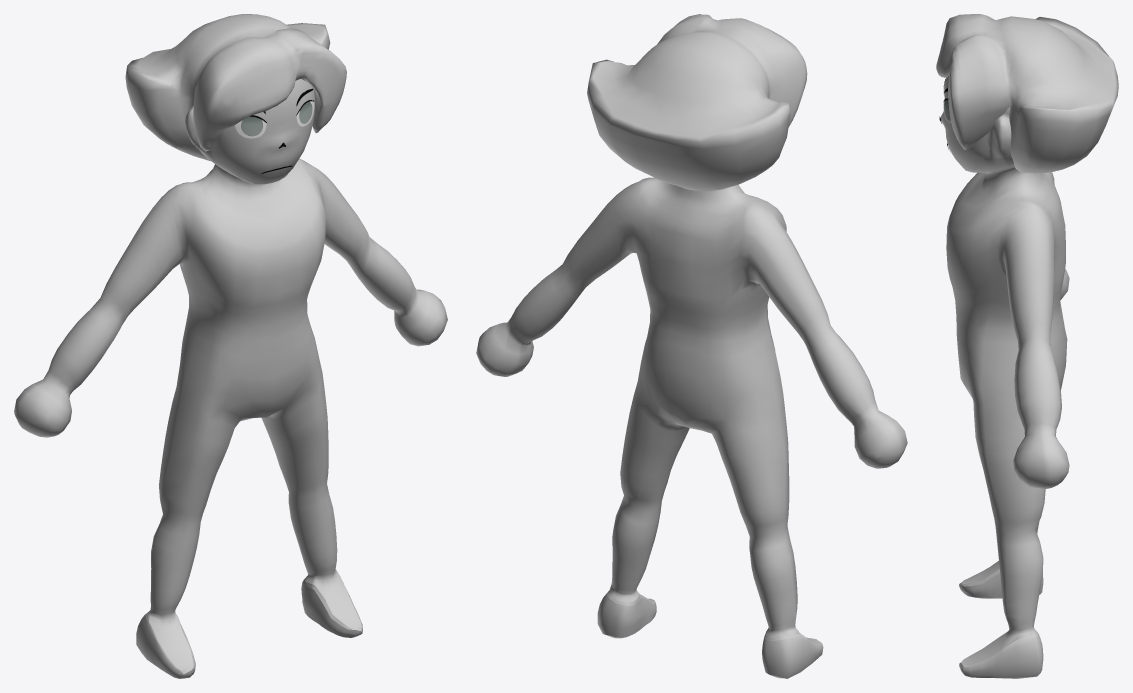
Rendered from Hero_ALL_Anatomy_BaseTextures.fbx.
3 renders of one model, left to right at view 1: azimuth 30°, elevation 25°; view 2: azimuth 150°, elevation 25°; view 3: azimuth 270°, elevation 25°, orthographic.
Visible parts, largest first — view 1: Anatomy_LOW, Hair_LOW, FaceMesh; view 2: Anatomy_LOW, Hair_LOW; view 3: Anatomy_LOW, Hair_LOW.
Part boxes in pixels (box(x1,y1,x2,y2)): Anatomy_LOW: box(14, 79, 447, 678); Hair_LOW: box(125, 14, 346, 161); FaceMesh: box(235, 88, 314, 173); Anatomy_LOW: box(476, 177, 907, 678); Hair_LOW: box(587, 14, 807, 191); Anatomy_LOW: box(940, 76, 1069, 678); Hair_LOW: box(936, 14, 1118, 173).
Size of the model in its own units: 97.84 by 136 by 36.83.
